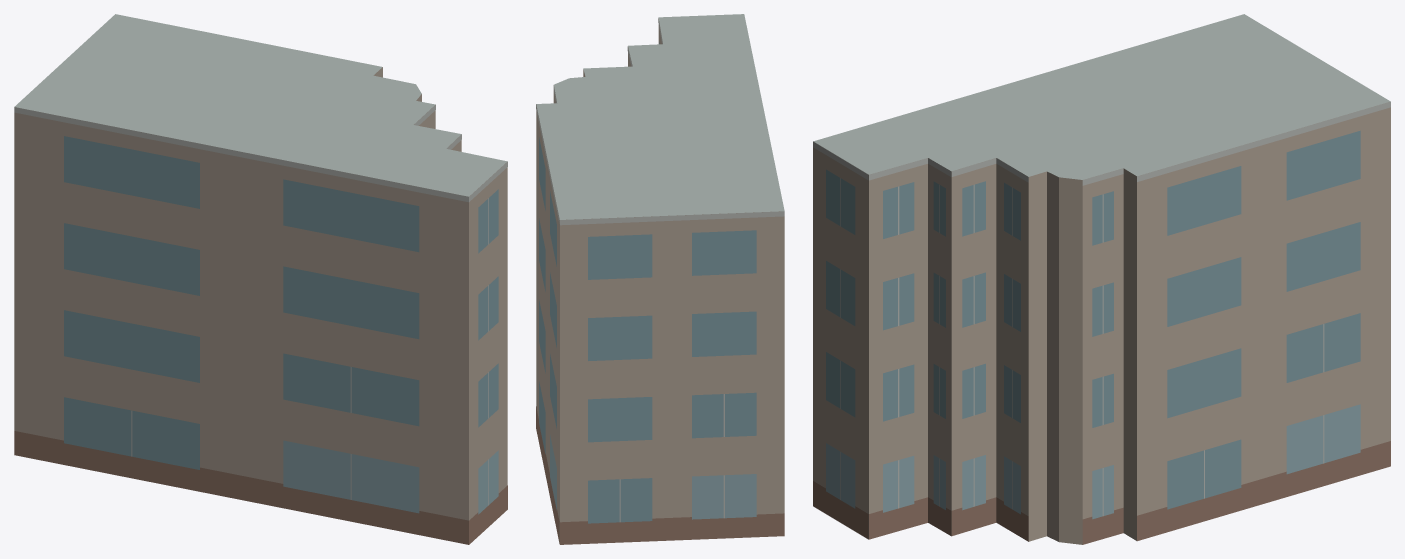
The model's file is survey-upis-33001713.glb.
3 views of the same model, side by side, from view 1: azimuth 30°, elevation 25°; view 2: azimuth 150°, elevation 25°; view 3: azimuth 270°, elevation 25° (orthographic). The views are drawn at different scales.
Parts seen in each view (by area): view 1: survey-upis-33001713.tmp; view 2: survey-upis-33001713.tmp; view 3: survey-upis-33001713.tmp.
Boxes of the visible parts, bbox=[...] form: survey-upis-33001713.tmp: bbox=[14, 14, 507, 544]; survey-upis-33001713.tmp: bbox=[536, 14, 784, 544]; survey-upis-33001713.tmp: bbox=[813, 14, 1390, 544].
Bounding box in the file's own units: 14.84 × 15.2 × 21.82.
